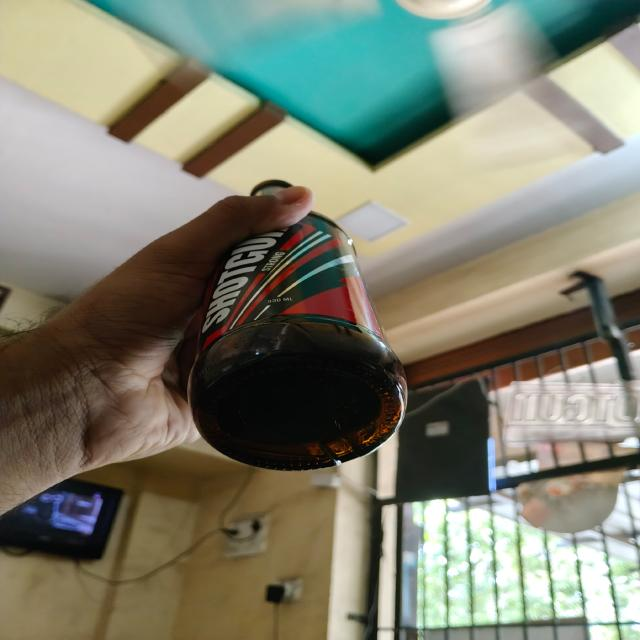Alcohol-Bottle-Detection: (196, 175, 400, 476)
